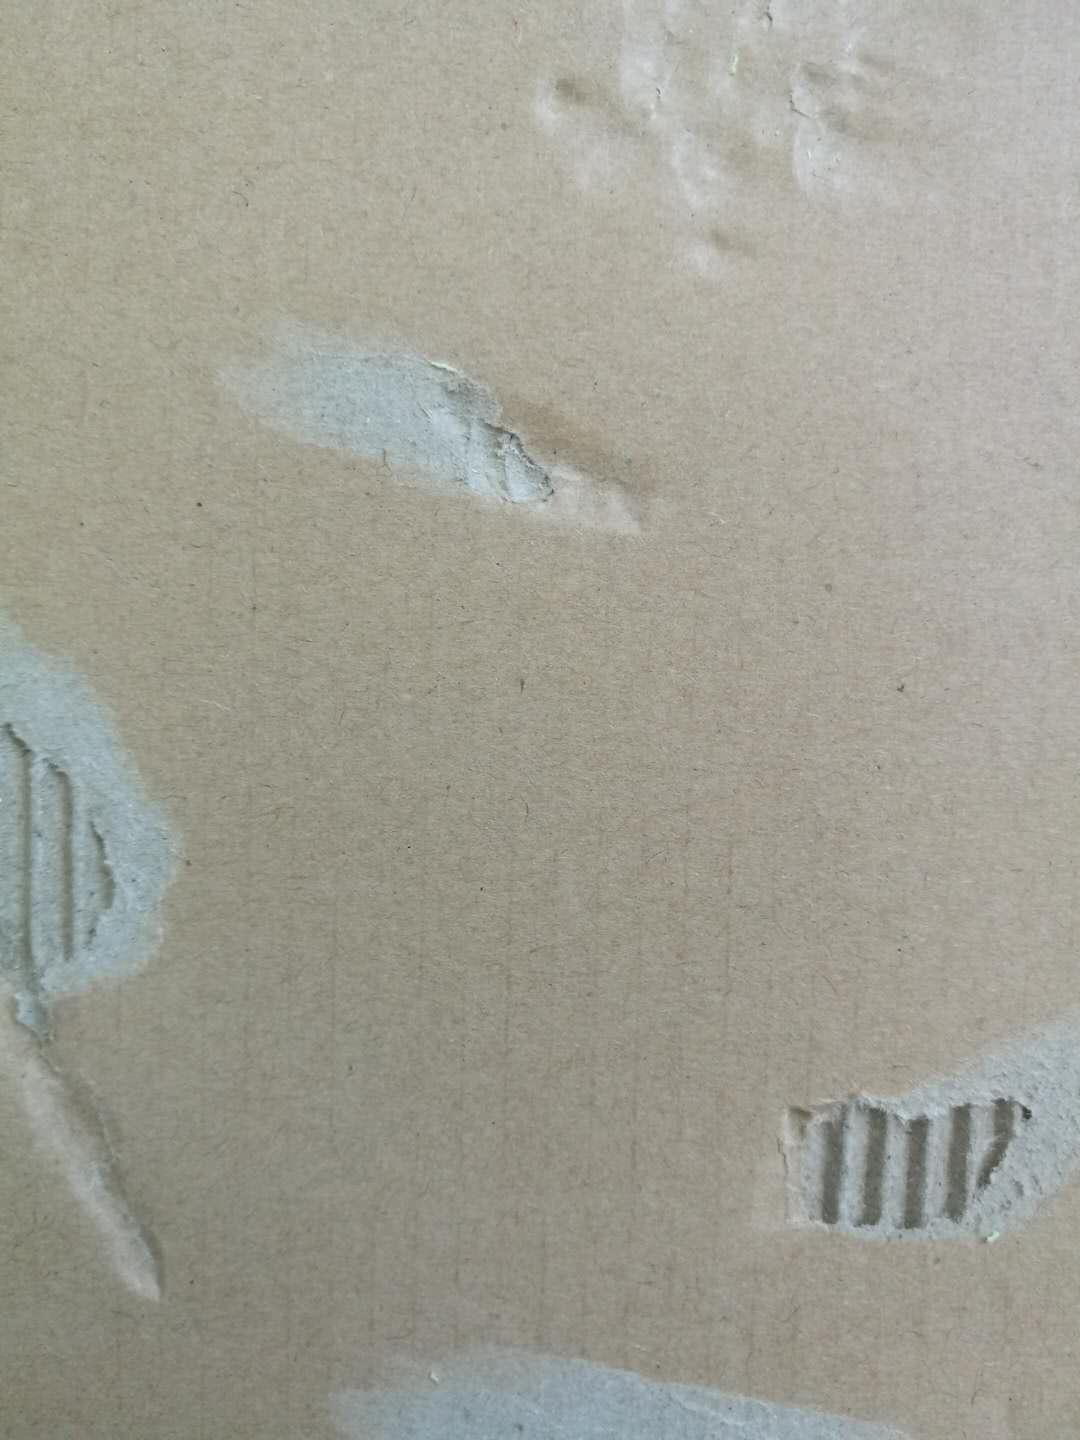defect: (2, 579, 216, 1325), (514, 5, 1022, 295), (183, 299, 686, 553), (743, 993, 1080, 1257), (292, 1322, 933, 1440)
